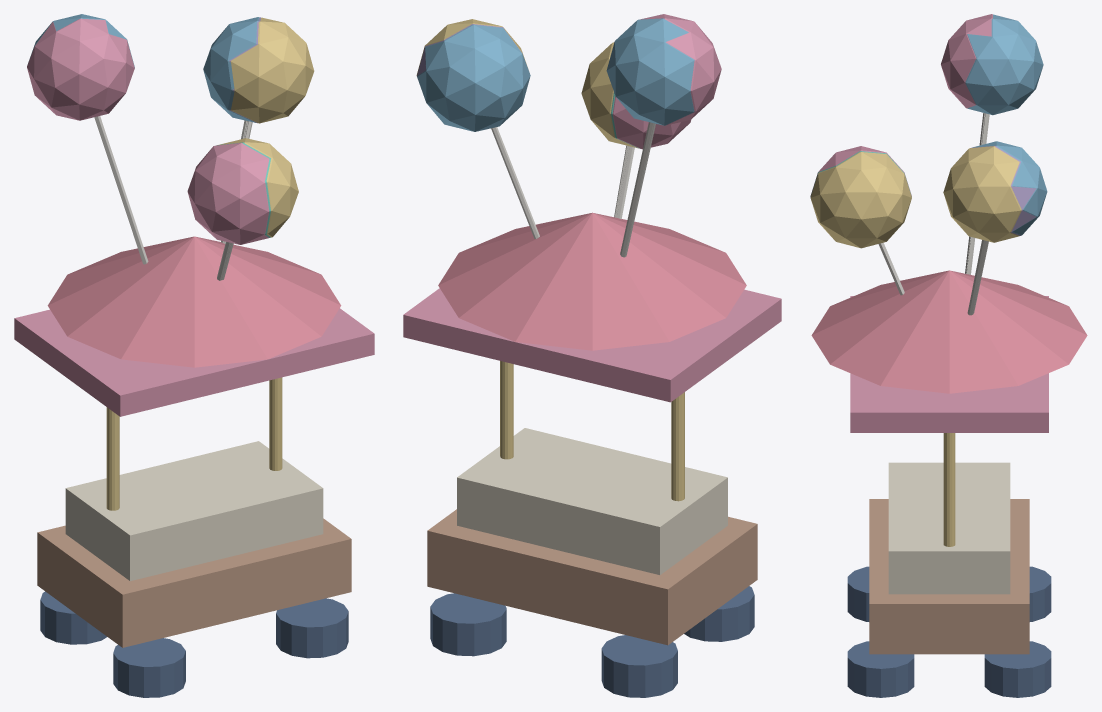
The model's file is balloon_cart.glb.
The picture shows the model from 3 angles, left to right: view 1: azimuth 30°, elevation 25°; view 2: azimuth 150°, elevation 25°; view 3: azimuth 270°, elevation 25°; orthographic projection. The views are drawn at different scales.
Parts seen in each view (by area): view 1: balloon_cart; view 2: balloon_cart; view 3: balloon_cart.
Boxes of the visible parts, box(x1,y1,x2,y2) form: balloon_cart: box(14, 14, 374, 697); balloon_cart: box(403, 14, 781, 697); balloon_cart: box(810, 14, 1087, 697).
Size of the model in its own units: 2.7 by 5.85 by 2.51.
